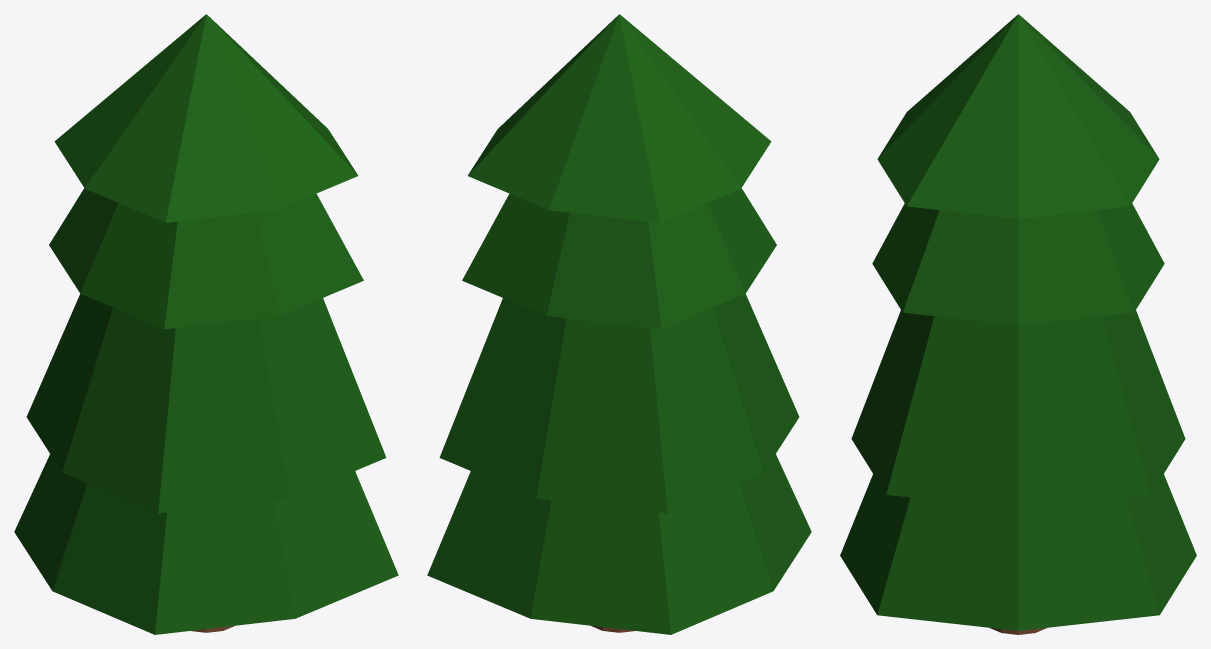
Rendered from Tree_22_autumn_mat.fbx.
3 renders of one model, left to right at view 1: azimuth 30°, elevation 25°; view 2: azimuth 150°, elevation 25°; view 3: azimuth 270°, elevation 25°, orthographic.
Visible parts, largest first — view 1: Tree_22_autumn_mat; view 2: Tree_22_autumn_mat; view 3: Tree_22_autumn_mat.
Part boxes in pixels (<box>): Tree_22_autumn_mat: <box>14,14,398,634</box>; Tree_22_autumn_mat: <box>427,14,811,634</box>; Tree_22_autumn_mat: <box>840,14,1196,634</box>.
Bounding box in the file's own units: 3.31 × 6.21 × 3.31.
